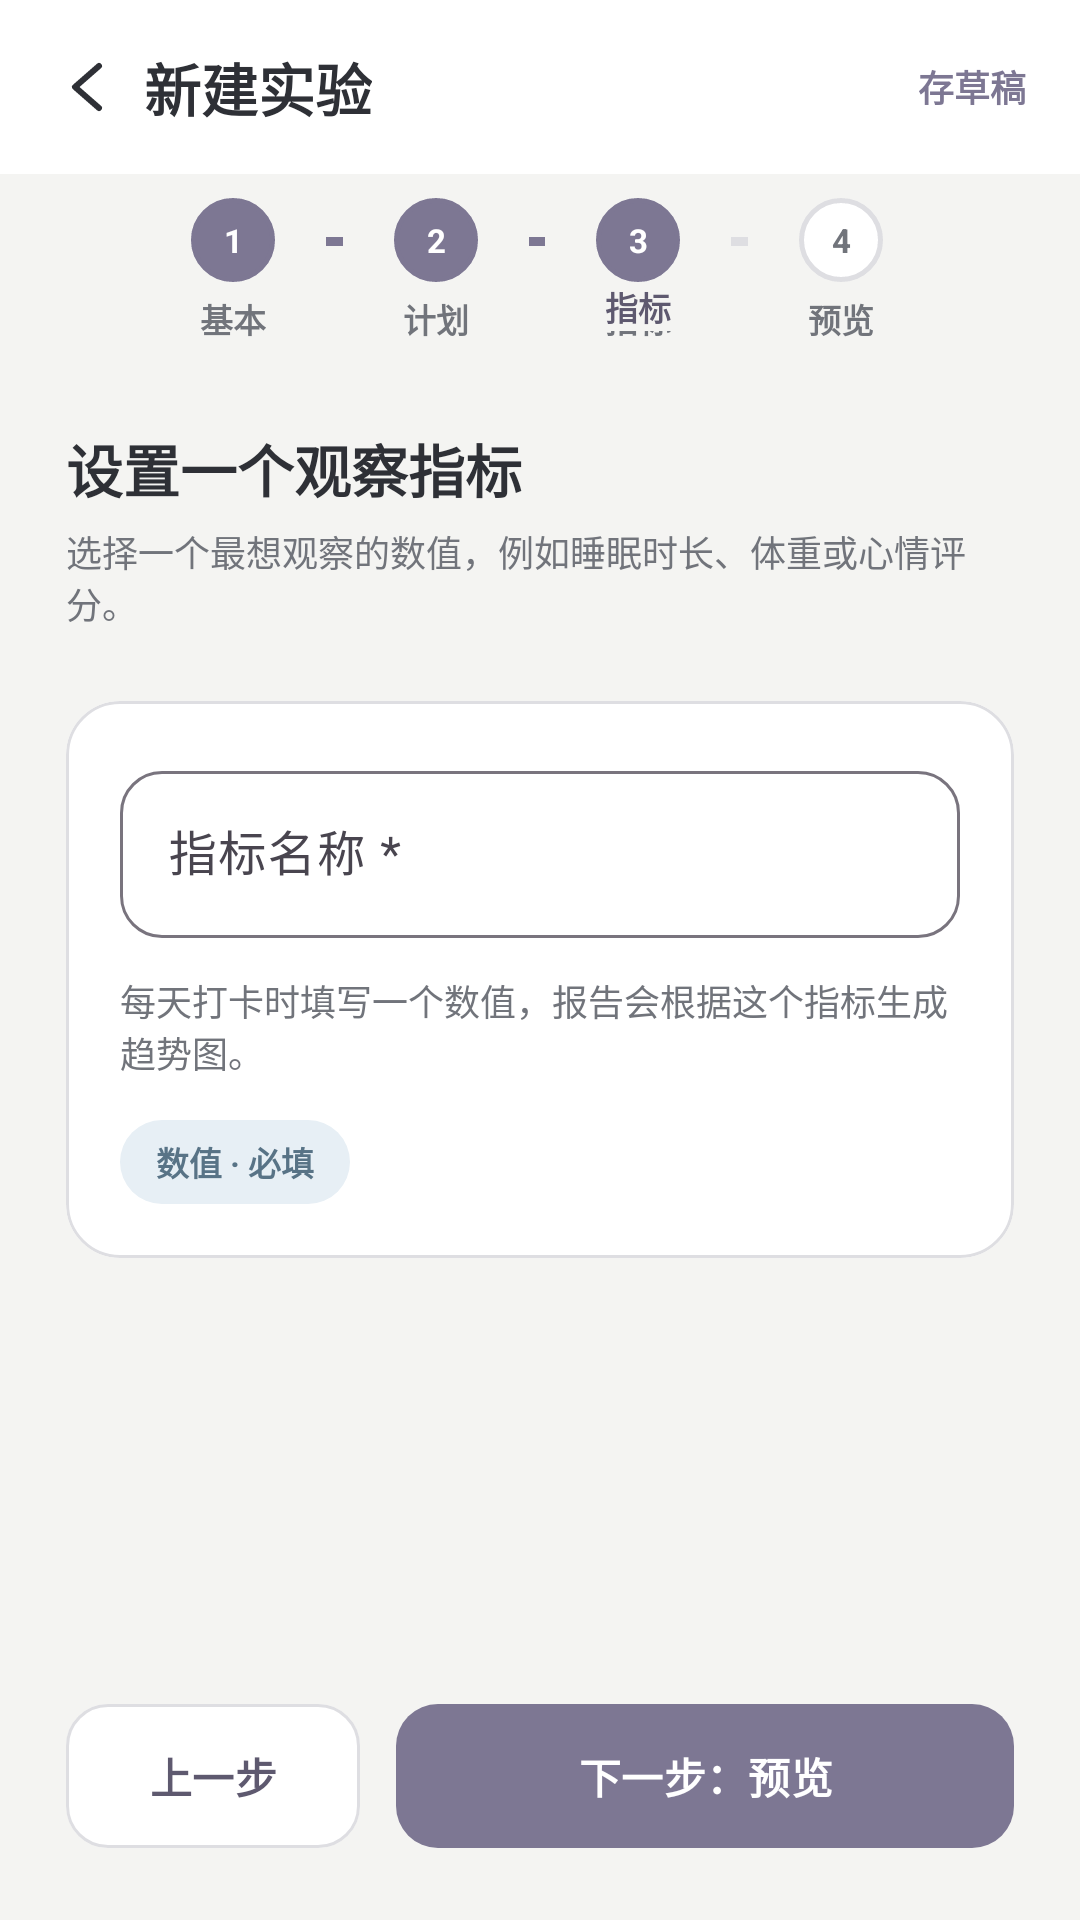

Locate icon controls on the screen. Image size 1080*1920, boxes as box=[x1, y1, x2, y2].
返回: box=[71, 63, 102, 111]
